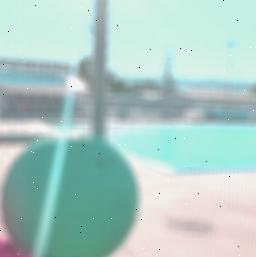algae: (0, 134, 139, 257)
